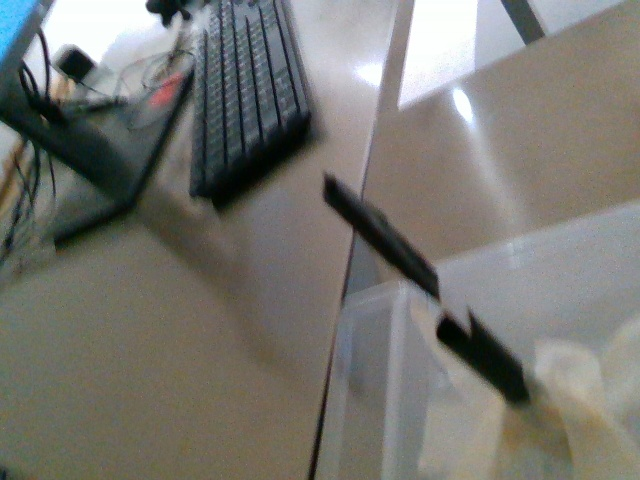test_strip: (318, 172, 471, 332)
